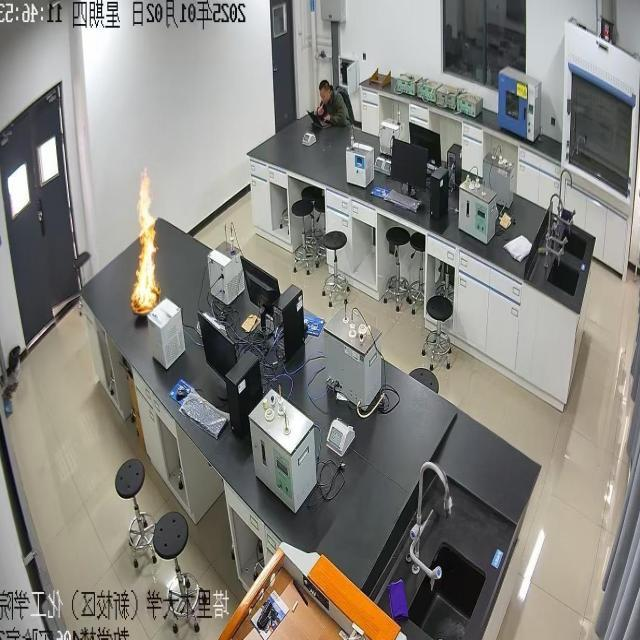smoke: (128, 167, 164, 316)
